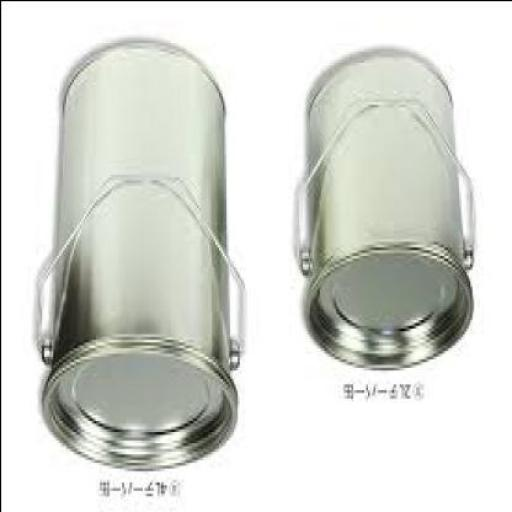metal: (35, 42, 244, 476), (294, 48, 479, 372)
